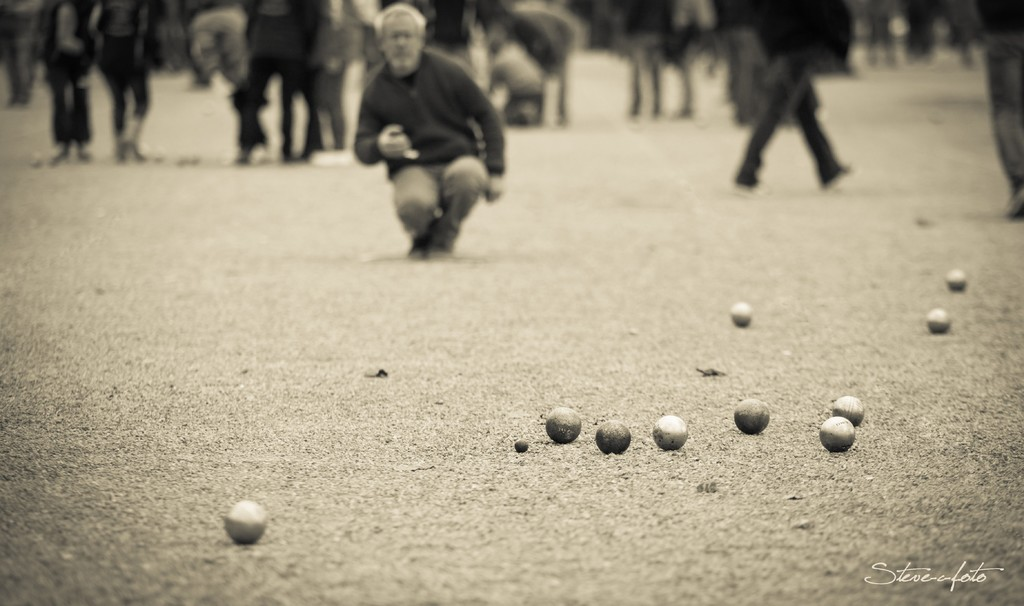Person: (0, 0, 1023, 261)
